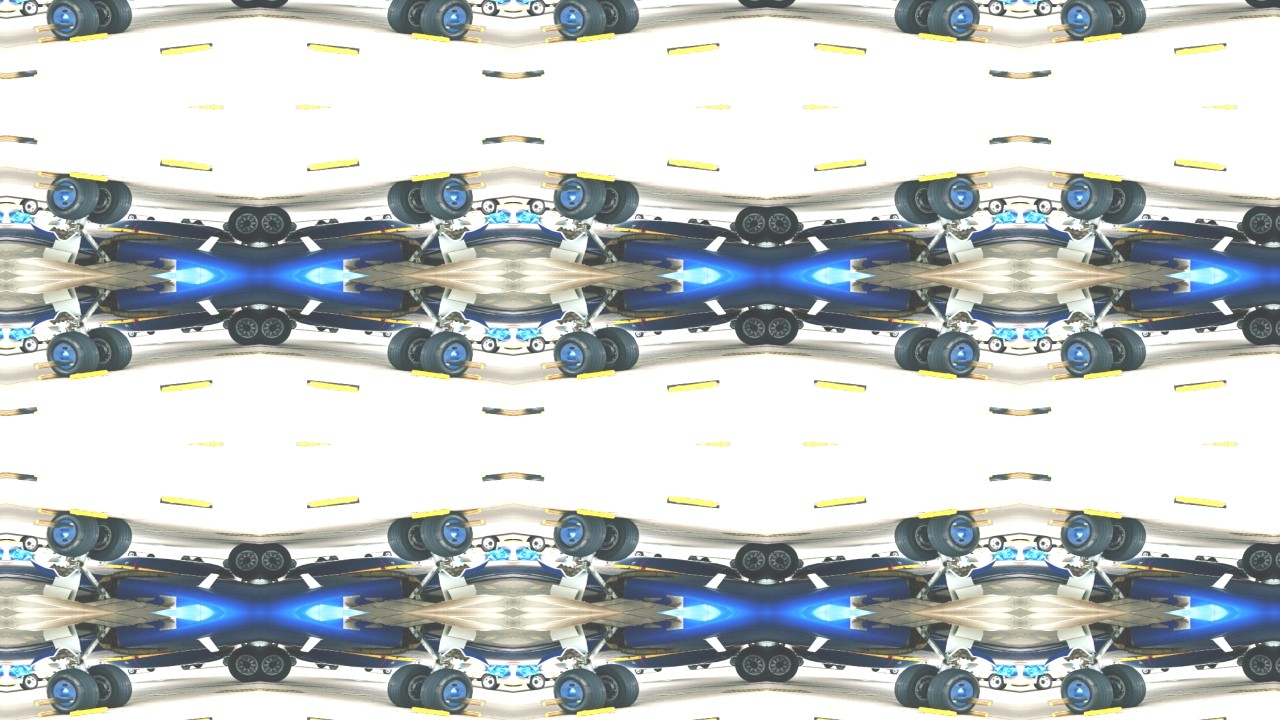chock: (159, 42, 213, 55), (305, 42, 359, 55), (667, 42, 721, 55), (813, 42, 867, 55), (1175, 42, 1229, 55), (159, 158, 213, 171), (305, 158, 359, 171), (667, 158, 721, 171), (813, 158, 867, 171), (1175, 158, 1229, 171), (159, 380, 213, 393), (305, 380, 359, 393), (667, 380, 721, 393), (813, 380, 867, 393), (1175, 380, 1229, 393), (159, 496, 213, 509), (305, 496, 359, 509), (667, 496, 721, 509), (813, 496, 867, 509), (1175, 496, 1229, 509), (68, 31, 110, 42), (408, 31, 450, 42), (576, 31, 618, 42), (916, 31, 958, 42), (1084, 31, 1126, 42), (68, 171, 110, 182), (408, 171, 450, 182), (576, 171, 618, 182), (916, 171, 958, 182), (1084, 171, 1126, 182), (68, 369, 110, 380), (408, 369, 450, 380), (576, 369, 618, 380), (916, 369, 958, 380), (1084, 369, 1126, 380), (68, 509, 110, 520), (408, 509, 450, 520), (576, 509, 618, 520), (916, 509, 958, 520), (1084, 509, 1126, 520), (68, 707, 110, 718), (408, 707, 450, 718), (576, 707, 618, 718), (916, 707, 958, 718), (1084, 707, 1126, 718), (32, 21, 73, 31), (445, 21, 486, 31), (540, 21, 581, 31), (953, 21, 994, 31), (1048, 21, 1089, 31), (32, 182, 73, 192), (445, 182, 486, 192), (540, 182, 581, 192), (953, 182, 994, 192), (1048, 182, 1089, 192), (32, 359, 73, 369), (445, 359, 486, 369), (540, 359, 581, 369), (953, 359, 994, 369), (1048, 359, 1089, 369), (32, 520, 73, 530), (445, 520, 486, 530), (540, 520, 581, 530), (953, 520, 994, 530), (1048, 520, 1089, 530), (32, 697, 73, 707), (445, 697, 486, 707), (540, 697, 581, 707), (953, 697, 994, 707), (1048, 697, 1089, 707), (35, 33, 73, 42), (445, 33, 483, 42), (543, 33, 581, 42), (953, 33, 991, 42), (1051, 33, 1089, 42), (35, 171, 73, 180), (445, 171, 483, 180), (543, 171, 581, 180), (953, 171, 991, 180), (1051, 171, 1089, 180), (35, 371, 73, 380), (445, 371, 483, 380), (543, 371, 581, 380), (953, 371, 991, 380), (1051, 371, 1089, 380), (35, 509, 73, 518), (445, 509, 483, 518), (543, 509, 581, 518), (953, 509, 991, 518), (1051, 509, 1089, 518), (35, 709, 73, 718), (445, 709, 483, 718), (543, 709, 581, 718), (953, 709, 991, 718), (1051, 709, 1089, 718), (5, 69, 37, 79), (481, 69, 513, 79), (513, 69, 545, 79), (989, 69, 1021, 79), (1021, 69, 1053, 79), (5, 134, 37, 144), (481, 134, 513, 144), (513, 134, 545, 144), (989, 134, 1021, 144), (1021, 134, 1053, 144), (5, 407, 37, 417), (481, 407, 513, 417), (513, 407, 545, 417), (989, 407, 1021, 417), (1021, 407, 1053, 417), (5, 472, 37, 482), (481, 472, 513, 482), (513, 472, 545, 482), (989, 472, 1021, 482), (1021, 472, 1053, 482), (159, 718, 213, 720), (305, 718, 359, 720), (667, 718, 721, 720), (813, 718, 867, 720), (1175, 718, 1229, 720), (0, 69, 5, 79), (0, 134, 5, 144), (0, 407, 5, 417), (0, 472, 5, 482)
wheel: (40, 173, 101, 223), (417, 173, 478, 223), (548, 173, 609, 223), (925, 173, 986, 223), (1056, 173, 1117, 223), (40, 328, 101, 378), (417, 328, 478, 378), (548, 328, 609, 378), (925, 328, 986, 378), (1056, 328, 1117, 378), (40, 511, 101, 561), (417, 511, 478, 561), (548, 511, 609, 561), (925, 511, 986, 561), (1056, 511, 1117, 561), (40, 666, 101, 716), (417, 666, 478, 716), (548, 666, 609, 716), (925, 666, 986, 716), (1056, 666, 1117, 716), (83, 179, 134, 227), (384, 179, 435, 227), (591, 179, 642, 227), (892, 179, 943, 227), (1099, 179, 1150, 227), (83, 324, 134, 372), (384, 324, 435, 372), (591, 324, 642, 372), (892, 324, 943, 372), (1099, 324, 1150, 372), (83, 517, 134, 565), (384, 517, 435, 565), (591, 517, 642, 565), (892, 517, 943, 565), (1099, 517, 1150, 565), (83, 662, 134, 710), (384, 662, 435, 710), (591, 662, 642, 710), (892, 662, 943, 710), (1099, 662, 1150, 710), (40, 0, 101, 40), (417, 0, 478, 40), (548, 0, 609, 40), (925, 0, 986, 40), (1056, 0, 1117, 40), (83, 0, 134, 34), (384, 0, 435, 34), (591, 0, 642, 34), (892, 0, 943, 34), (1099, 0, 1150, 34), (223, 204, 259, 243), (259, 204, 295, 243), (731, 204, 767, 243), (767, 204, 803, 243), (1239, 204, 1275, 243), (223, 308, 259, 347), (259, 308, 295, 347), (731, 308, 767, 347), (767, 308, 803, 347), (1239, 308, 1275, 347), (223, 542, 259, 581), (259, 542, 295, 581), (731, 542, 767, 581), (767, 542, 803, 581), (1239, 542, 1275, 581), (223, 646, 259, 685), (259, 646, 295, 685), (731, 646, 767, 685), (767, 646, 803, 685), (1239, 646, 1275, 685), (17, 197, 39, 215), (479, 197, 501, 215), (525, 197, 547, 215), (987, 197, 1009, 215), (1033, 197, 1055, 215), (17, 336, 39, 354), (479, 336, 501, 354), (525, 336, 547, 354), (987, 336, 1009, 354), (1033, 336, 1055, 354), (17, 535, 39, 553), (479, 535, 501, 553), (525, 535, 547, 553), (987, 535, 1009, 553), (1033, 535, 1055, 553), (17, 674, 39, 692), (479, 674, 501, 692), (525, 674, 547, 692), (987, 674, 1009, 692), (1033, 674, 1055, 692), (17, 0, 39, 16), (479, 0, 501, 16), (525, 0, 547, 16), (987, 0, 1009, 16), (1033, 0, 1055, 16), (223, 0, 259, 9), (259, 0, 295, 9), (731, 0, 767, 9), (767, 0, 803, 9), (1239, 0, 1275, 9), (1275, 204, 1280, 243), (1275, 308, 1280, 347), (1275, 542, 1280, 581), (1275, 646, 1280, 685), (221, 221, 230, 231), (288, 221, 297, 231), (729, 221, 738, 231), (796, 221, 805, 231), (1237, 221, 1246, 231), (221, 320, 230, 330), (288, 320, 297, 330), (729, 320, 738, 330), (796, 320, 805, 330), (1237, 320, 1246, 330), (221, 559, 230, 569), (288, 559, 297, 569), (729, 559, 738, 569), (796, 559, 805, 569), (1237, 559, 1246, 569), (221, 658, 230, 668), (288, 658, 297, 668), (729, 658, 738, 668), (796, 658, 805, 668), (1237, 658, 1246, 668), (18, 7, 27, 15), (491, 7, 500, 15), (526, 7, 535, 15), (999, 7, 1008, 15), (1034, 7, 1043, 15), (18, 198, 27, 206), (491, 198, 500, 206), (526, 198, 535, 206), (999, 198, 1008, 206), (1034, 198, 1043, 206), (18, 345, 27, 353), (491, 345, 500, 353), (526, 345, 535, 353), (999, 345, 1008, 353), (1034, 345, 1043, 353), (18, 536, 27, 544), (491, 536, 500, 544), (526, 536, 535, 544), (999, 536, 1008, 544), (1034, 536, 1043, 544), (18, 683, 27, 691), (491, 683, 500, 691), (526, 683, 535, 691), (999, 683, 1008, 691), (1034, 683, 1043, 691), (192, 220, 203, 225), (315, 220, 326, 225), (700, 220, 711, 225), (823, 220, 834, 225), (1208, 220, 1219, 225), (192, 326, 203, 331), (315, 326, 326, 331), (700, 326, 711, 331), (823, 326, 834, 331), (1208, 326, 1219, 331), (192, 558, 203, 563), (315, 558, 326, 563), (700, 558, 711, 563), (823, 558, 834, 563), (1208, 558, 1219, 563), (192, 664, 203, 669), (315, 664, 326, 669), (700, 664, 711, 669), (823, 664, 834, 669), (1208, 664, 1219, 669), (145, 216, 155, 221), (180, 218, 190, 223), (126, 214, 136, 219), (363, 216, 373, 221), (328, 218, 338, 223), (382, 214, 392, 219), (653, 216, 663, 221), (688, 218, 698, 223), (634, 214, 644, 219), (871, 216, 881, 221), (836, 218, 846, 223), (890, 214, 900, 219), (1161, 216, 1171, 221), (1196, 218, 1206, 223), (1142, 214, 1152, 219), (145, 330, 155, 335), (180, 328, 190, 333), (126, 332, 136, 337), (363, 330, 373, 335), (328, 328, 338, 333), (382, 332, 392, 337), (653, 330, 663, 335), (688, 328, 698, 333), (634, 332, 644, 337), (871, 330, 881, 335), (836, 328, 846, 333), (890, 332, 900, 337), (1161, 330, 1171, 335), (1196, 328, 1206, 333), (1142, 332, 1152, 337), (145, 554, 155, 559), (180, 556, 190, 561), (126, 552, 136, 557), (363, 554, 373, 559), (328, 556, 338, 561), (382, 552, 392, 557), (653, 554, 663, 559), (688, 556, 698, 561), (634, 552, 644, 557), (871, 554, 881, 559), (836, 556, 846, 561), (890, 552, 900, 557), (1161, 554, 1171, 559), (1196, 556, 1206, 561), (1142, 552, 1152, 557), (145, 668, 155, 673), (180, 666, 190, 671), (126, 670, 136, 675), (363, 668, 373, 673), (328, 666, 338, 671), (382, 670, 392, 675), (653, 668, 663, 673), (688, 666, 698, 671), (634, 670, 644, 675), (871, 668, 881, 673), (836, 666, 846, 671), (890, 670, 900, 675), (1161, 668, 1171, 673), (1196, 666, 1206, 671), (1142, 670, 1152, 675), (5, 9, 15, 12), (503, 9, 513, 12), (513, 9, 523, 12), (1011, 9, 1021, 12), (1021, 9, 1031, 12), (5, 201, 15, 204), (503, 201, 513, 204), (513, 201, 523, 204), (1011, 201, 1021, 204), (1021, 201, 1031, 204), (5, 347, 15, 350), (503, 347, 513, 350), (513, 347, 523, 350), (1011, 347, 1021, 350), (1021, 347, 1031, 350), (5, 539, 15, 542), (503, 539, 513, 542), (513, 539, 523, 542), (1011, 539, 1021, 542), (1021, 539, 1031, 542), (5, 685, 15, 688), (503, 685, 513, 688), (513, 685, 523, 688), (1011, 685, 1021, 688), (1021, 685, 1031, 688), (36, 2, 43, 6), (475, 2, 482, 6), (544, 2, 551, 6), (983, 2, 990, 6), (1052, 2, 1059, 6), (36, 207, 43, 211), (475, 207, 482, 211), (544, 207, 551, 211), (983, 207, 990, 211), (1052, 207, 1059, 211), (36, 340, 43, 344), (475, 340, 482, 344), (544, 340, 551, 344), (983, 340, 990, 344), (1052, 340, 1059, 344), (36, 545, 43, 549), (475, 545, 482, 549), (544, 545, 551, 549), (983, 545, 990, 549), (1052, 545, 1059, 549), (36, 678, 43, 682), (475, 678, 482, 682), (544, 678, 551, 682), (983, 678, 990, 682), (1052, 678, 1059, 682), (0, 9, 5, 12), (0, 201, 5, 204), (0, 347, 5, 350), (0, 539, 5, 542), (0, 685, 5, 688)
